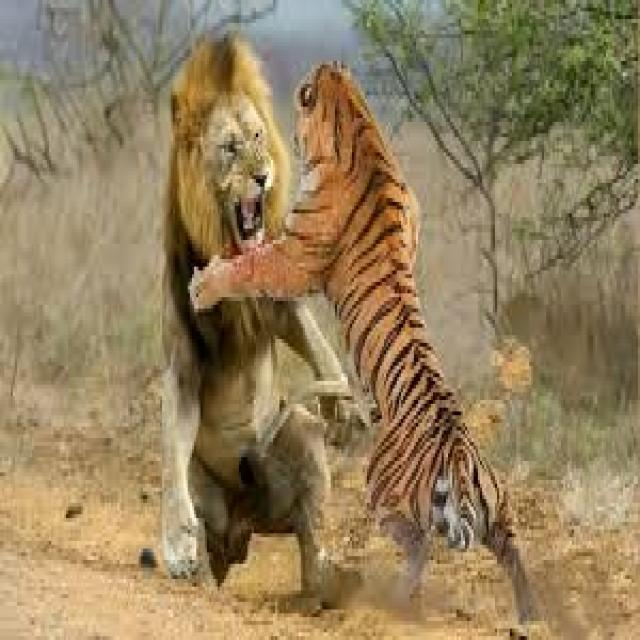Lion: (162, 33, 363, 596)
